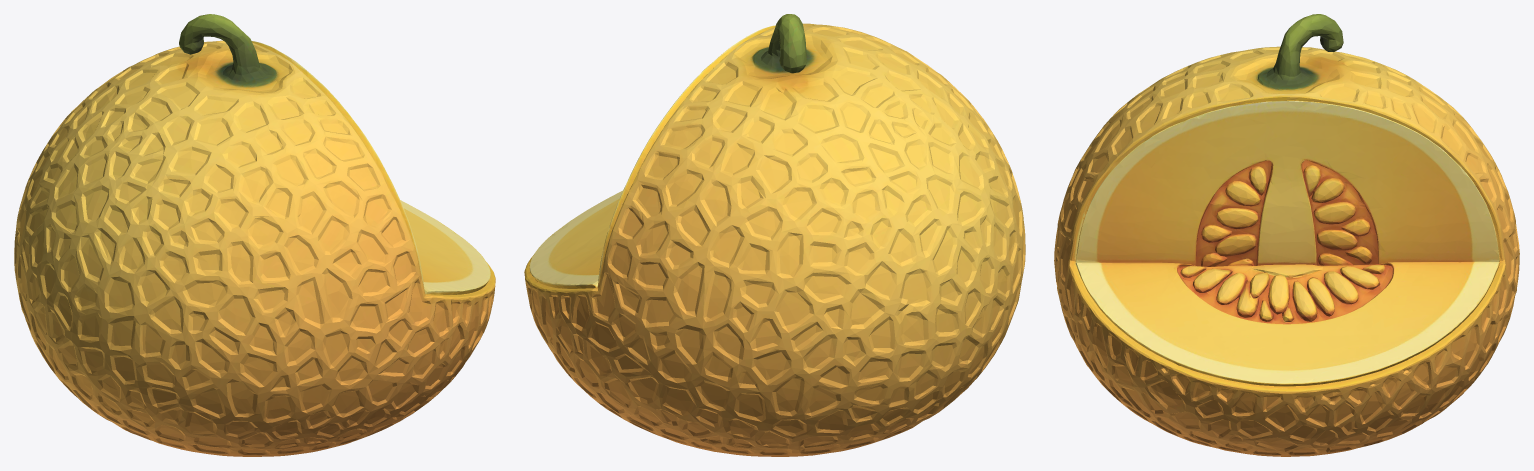
The model's file is meal_7.glb.
3 views of the same model, side by side, from view 1: azimuth 30°, elevation 25°; view 2: azimuth 150°, elevation 25°; view 3: azimuth 270°, elevation 25° (orthographic). The views are drawn at different scales.
Visible parts, largest first — view 1: tripo_node_a608aaba-5266-4d1b-bc70-0d651f8d998c; view 2: tripo_node_a608aaba-5266-4d1b-bc70-0d651f8d998c; view 3: tripo_node_a608aaba-5266-4d1b-bc70-0d651f8d998c.
Part boxes in pixels (x1=…): tripo_node_a608aaba-5266-4d1b-bc70-0d651f8d998c: x1=14, y1=14, x2=495, y2=456; tripo_node_a608aaba-5266-4d1b-bc70-0d651f8d998c: x1=524, y1=14, x2=1025, y2=456; tripo_node_a608aaba-5266-4d1b-bc70-0d651f8d998c: x1=1054, y1=14, x2=1519, y2=456.
Bounding box in the file's own units: 1 × 0.882 × 1.
1 material, 1 textured.
